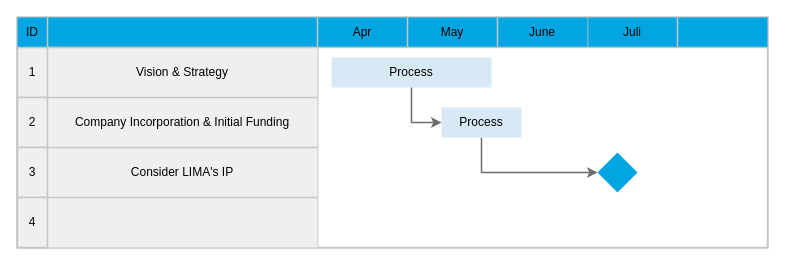
This 787x267 diagram has some shape labels left out. The shapes that lost their labels are listed below. From the top down, each one's box as (x1, y1, x2, y2) in pixels, then its label:
(47, 17, 317, 47): Task
(677, 17, 767, 47): Aug
(597, 152, 637, 192): Milestone
(47, 197, 317, 247): Market Research
